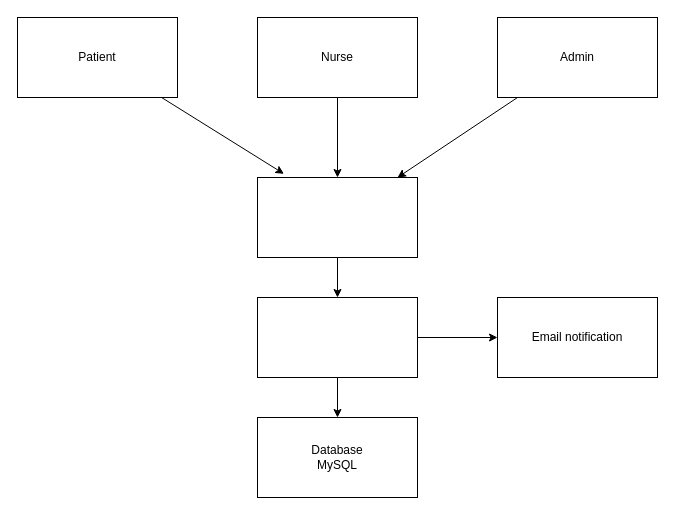
The diagram is 675 pixels wide and 515 high, and some of its shapes have lost their labels. The shapes that lost their labels are listed below. From the top down, each one's box as (x1, y1, x2, y2) in pixels, then its label:
(256, 176, 418, 258): Frotend React
(256, 296, 418, 378): Backend Spring Boot
